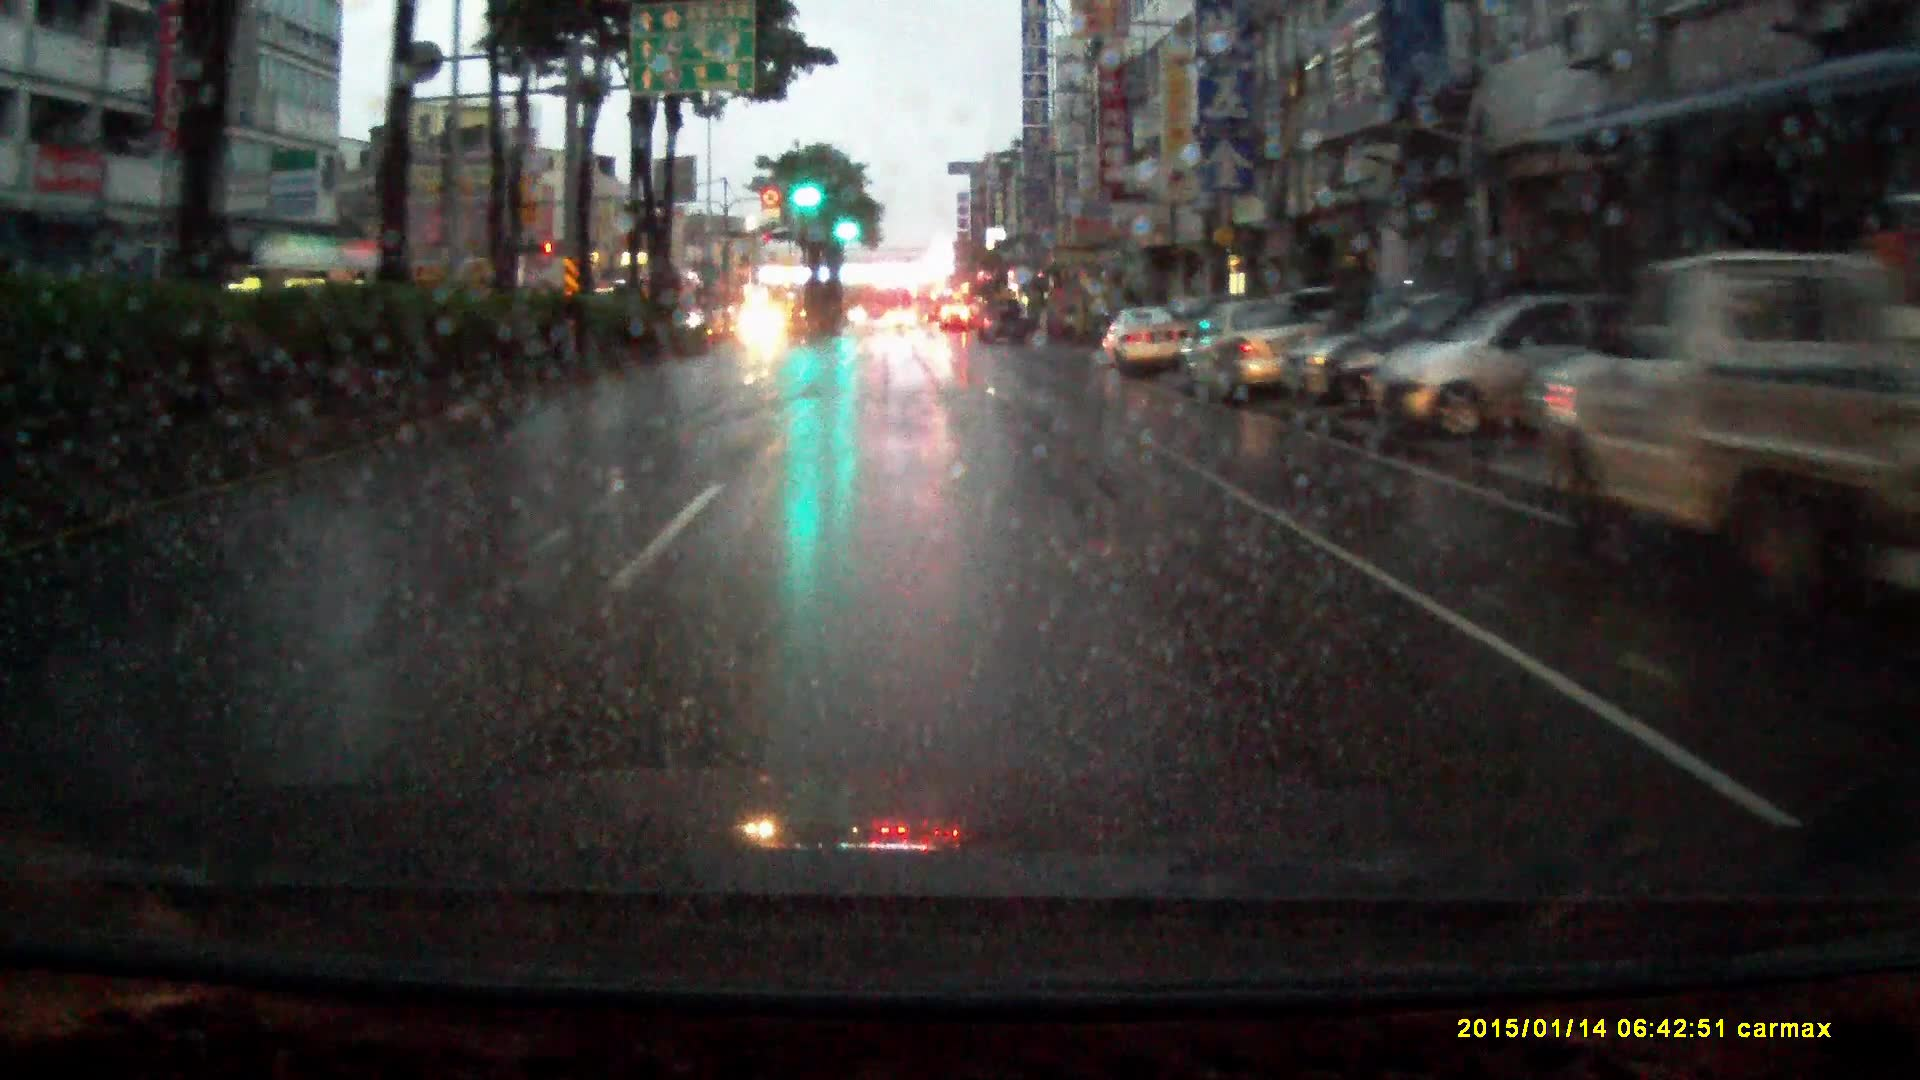vehicle: (1542, 247, 1920, 615), (1370, 287, 1654, 440), (1174, 295, 1342, 418), (1104, 305, 1183, 377), (975, 295, 1030, 342), (737, 301, 791, 345), (939, 301, 973, 332), (914, 284, 940, 319), (886, 305, 918, 324)
